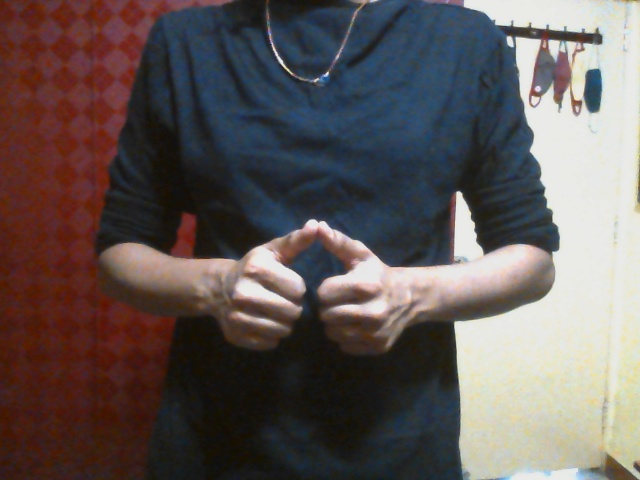A: (215, 218, 411, 358)
